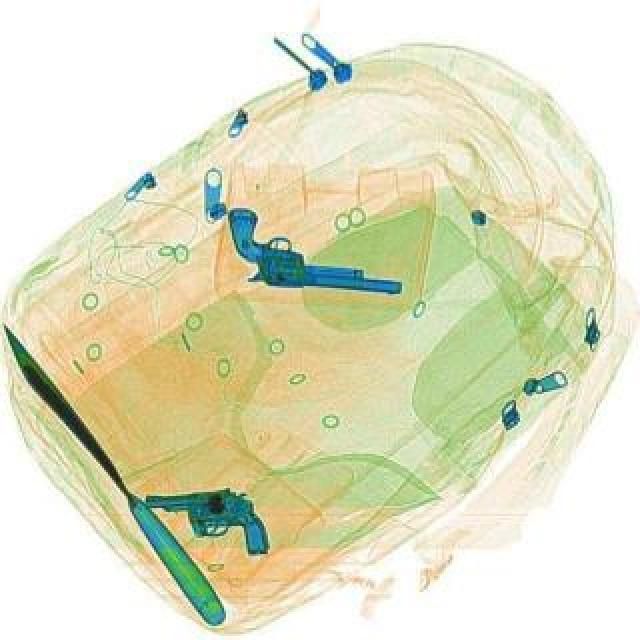gun: (224, 204, 406, 296), (140, 482, 270, 562)
knife: (0, 336, 230, 626)
